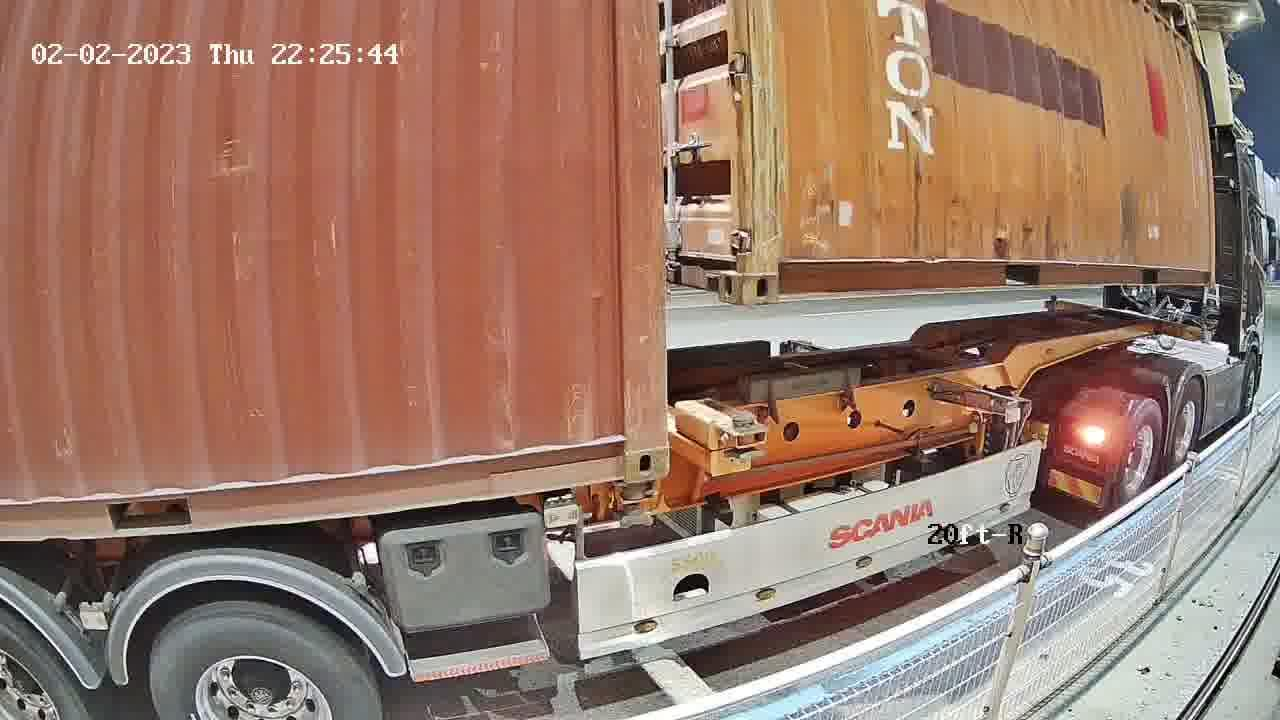Cone: (714, 409, 772, 467), (614, 479, 664, 531)
Hole_L: (743, 231, 831, 306)
Hole_R: (583, 410, 670, 484), (690, 226, 744, 308)
Tire: (1120, 402, 1162, 509), (1170, 380, 1205, 475)
